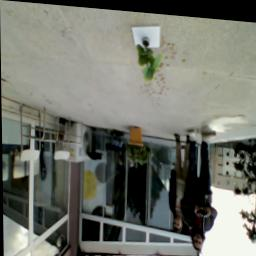herb: (137, 39, 166, 81)
